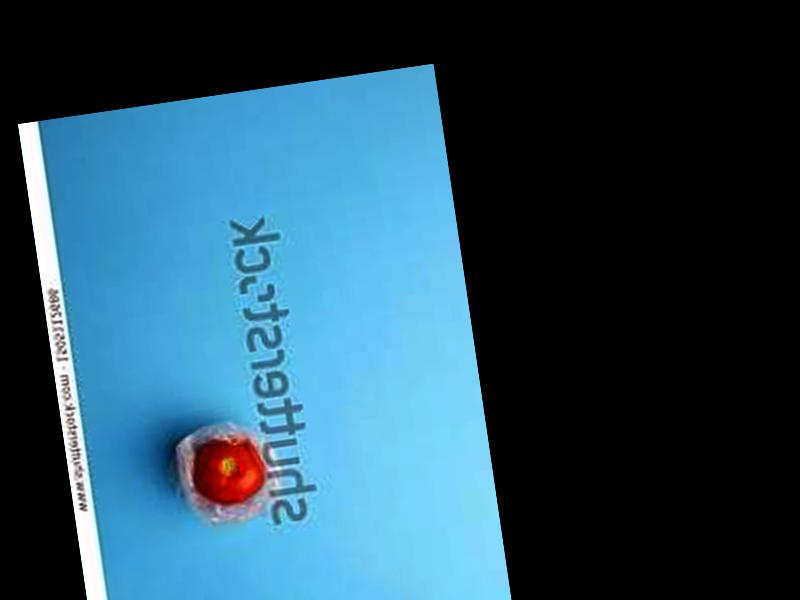Tomato: (190, 432, 268, 506)
